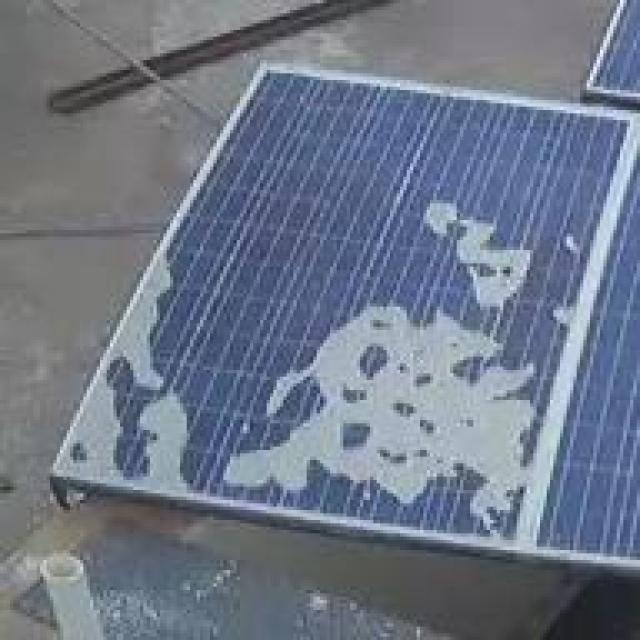Anomaly Solar Panel: (50, 39, 628, 554)
Snow: (214, 262, 564, 556), (31, 243, 194, 510), (393, 182, 543, 321)
